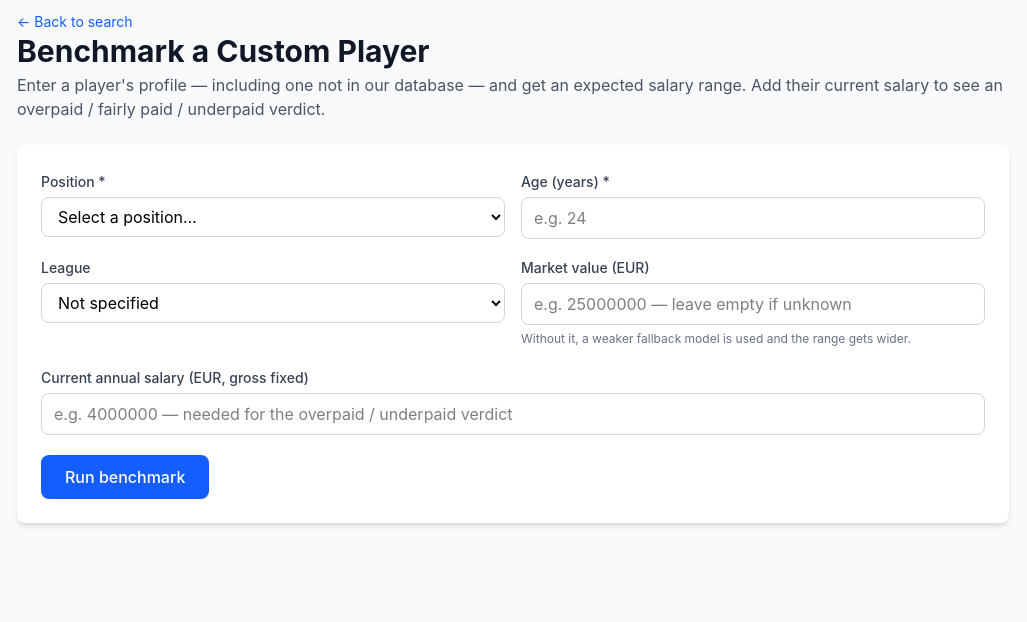
Test: ManualBenchmark page › rejects a negative market value
Select "Centre-Forward" in the dropdown labelled "Position *" at (273, 217), box x1=41 y1=197 x2=505 y2=237
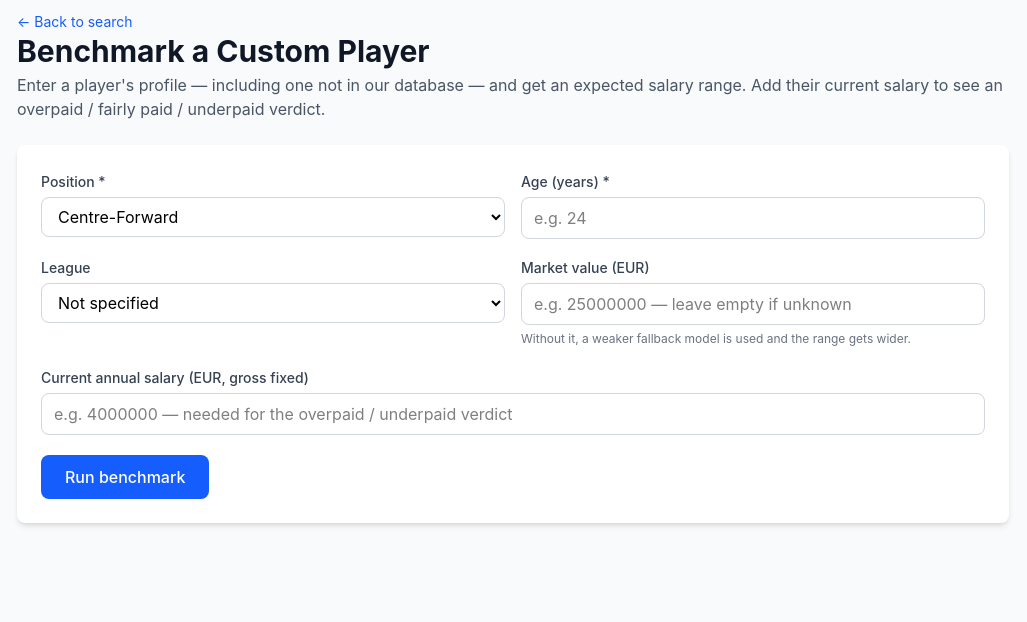
Type "25" into the number field labelled "Age (years) *" at (753, 218), box x1=521 y1=197 x2=985 y2=239
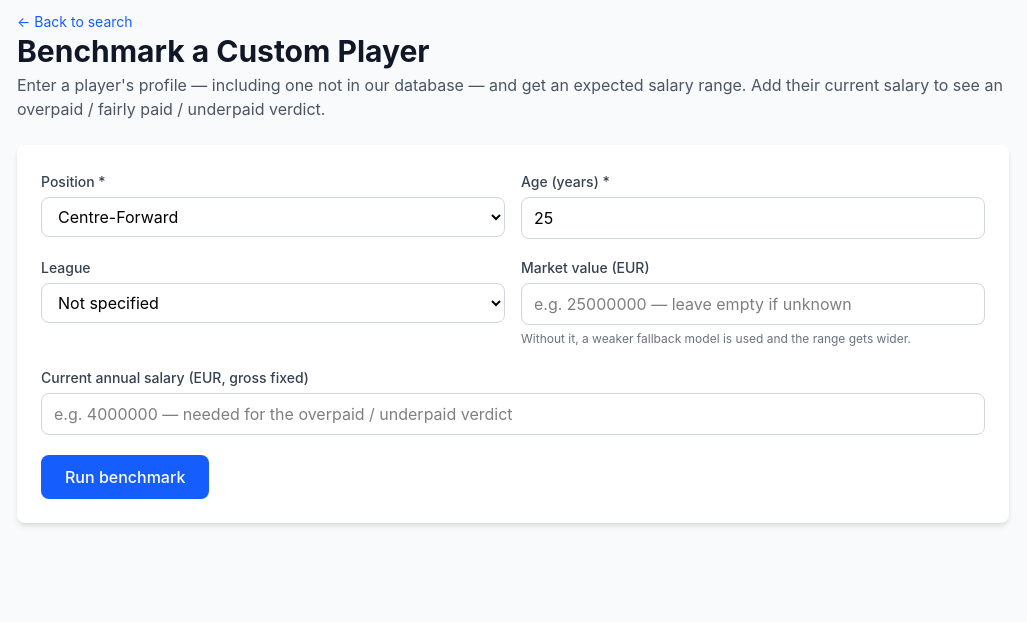
Type "-5" into the number field labelled "Market value (EUR)" at (753, 304), box x1=521 y1=283 x2=985 y2=325
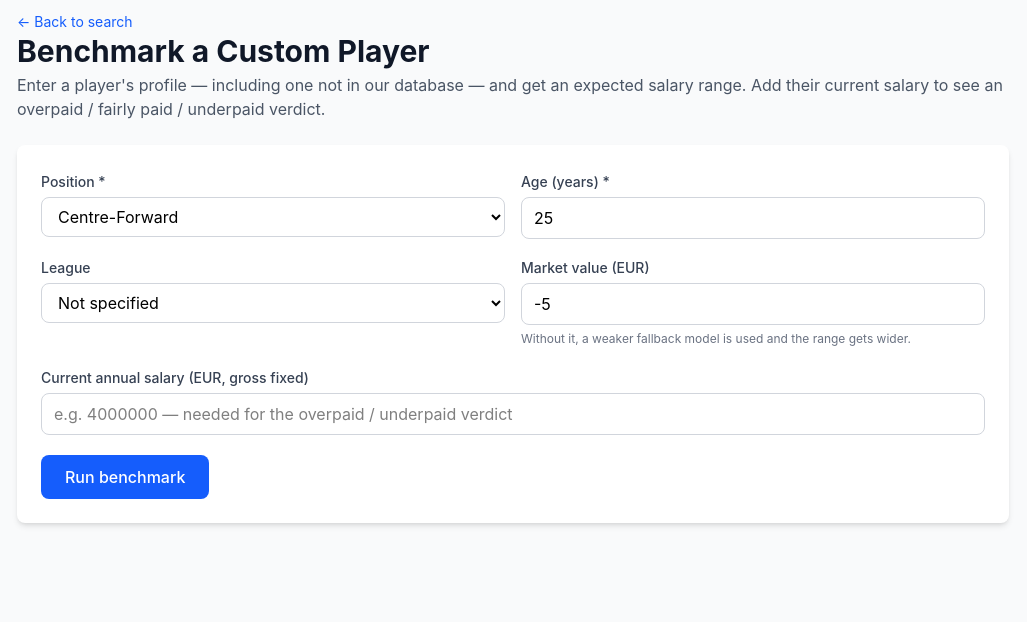
Submit the form named "Run benchmark", box x1=17 y1=145 x2=1009 y2=523
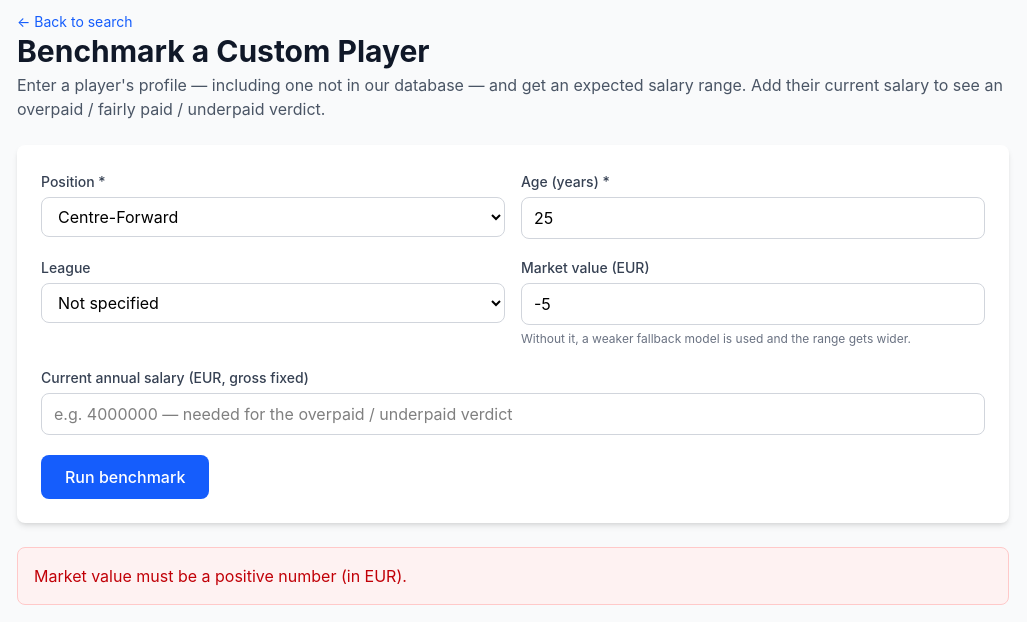
Expected: the text "Market value must be a positive number (in EUR)." is shown, x1=17 y1=547 x2=1009 y2=605
